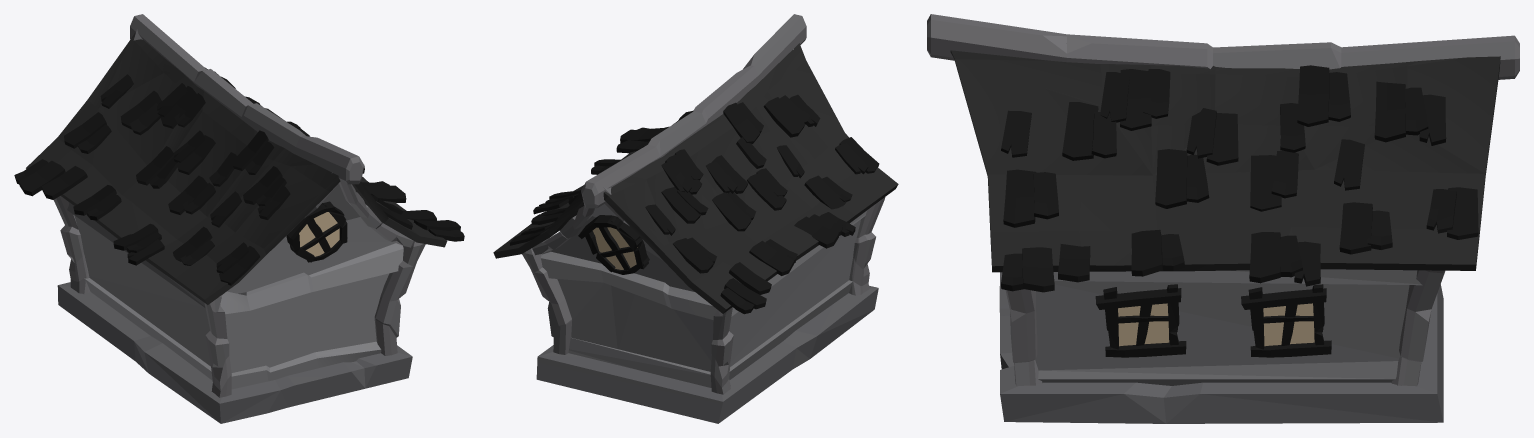
Rendered from WF_LP_HT_Build_HouseRoom.001.3.fbx.
3 views of the same model, side by side, from view 1: azimuth 30°, elevation 25°; view 2: azimuth 150°, elevation 25°; view 3: azimuth 270°, elevation 25° (orthographic). The views are drawn at different scales.
Visible parts, largest first — view 1: WF_LP_HT_Build_HouseRoom.001.3; view 2: WF_LP_HT_Build_HouseRoom.001.3; view 3: WF_LP_HT_Build_HouseRoom.001.3.
Boxes of the visible parts, x1=… form: WF_LP_HT_Build_HouseRoom.001.3: x1=14, y1=14, x2=464, y2=423; WF_LP_HT_Build_HouseRoom.001.3: x1=493, y1=14, x2=898, y2=423; WF_LP_HT_Build_HouseRoom.001.3: x1=927, y1=14, x2=1519, y2=423.
Bounding box in the file's own units: 5.79 × 4.94 × 7.55.
